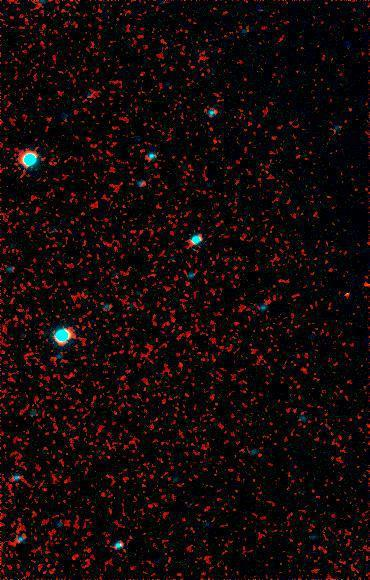star: (347, 263, 370, 293)
